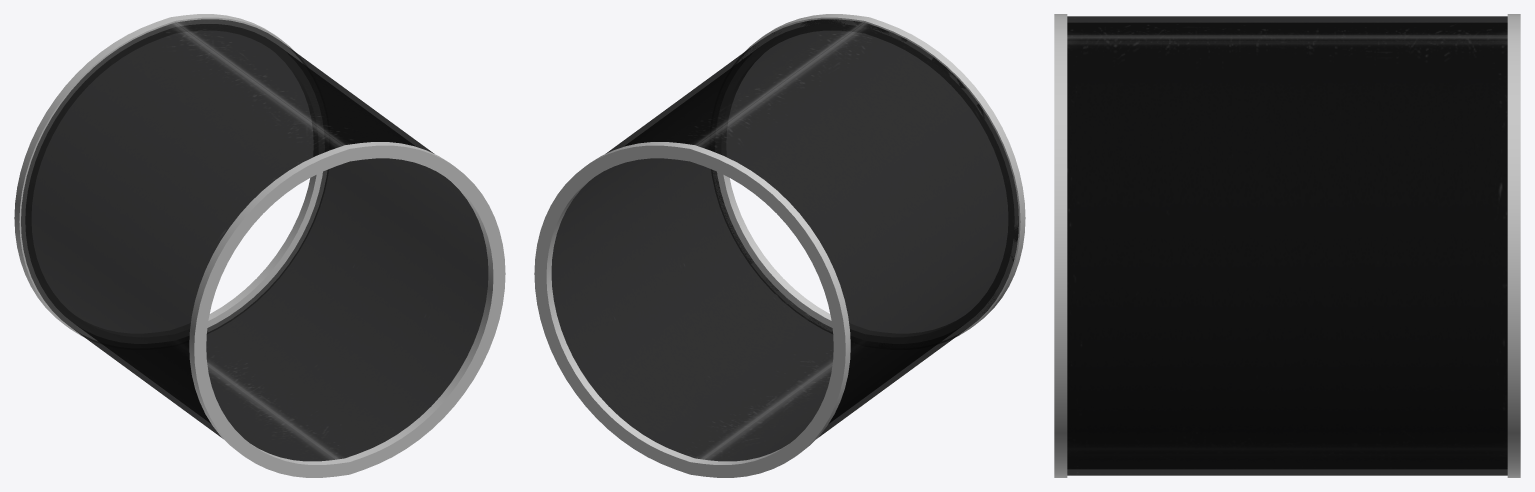
Rendered from glass_2x2_tube.fbx.
3 renders of one model, left to right at view 1: azimuth 30°, elevation 25°; view 2: azimuth 150°, elevation 25°; view 3: azimuth 270°, elevation 25°, orthographic. The views are drawn at different scales.
Visible parts, largest first — view 1: glass_2x2_tube; view 2: glass_2x2_tube; view 3: glass_2x2_tube.
Part boxes in pixels (x1,y1,x2,y2): glass_2x2_tube: (14,14,505,477); glass_2x2_tube: (534,14,1025,477); glass_2x2_tube: (1054,14,1520,477).
Size of the model in its own units: 90 by 90 by 90.
